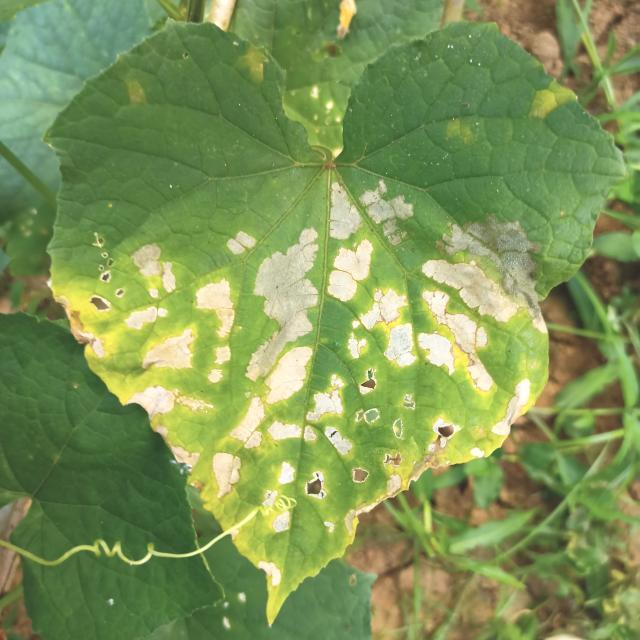disease_cucumber: (59, 180, 555, 564), (519, 72, 588, 132)
